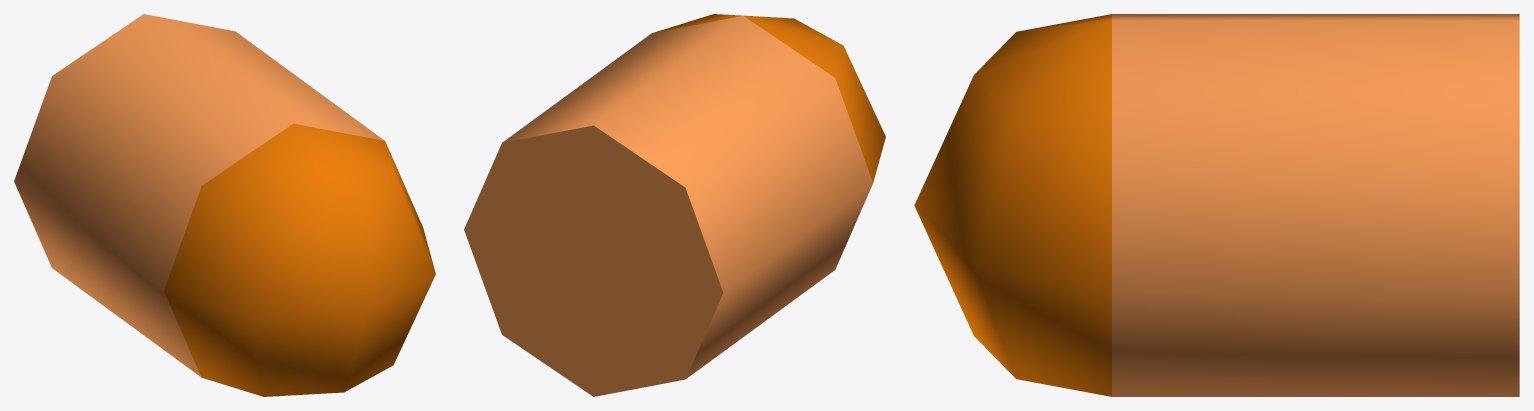
File: Bullet.fbx
3 renders of one model, left to right at view 1: azimuth 30°, elevation 25°; view 2: azimuth 150°, elevation 25°; view 3: azimuth 270°, elevation 25°, orthographic. The views are drawn at different scales.
Parts seen in each view (by area): view 1: Bullet; view 2: Bullet; view 3: Bullet.
Part boxes in pixels (x1,y1,x2,y2): Bullet: (14,14,435,396); Bullet: (464,14,885,396); Bullet: (914,14,1519,396).
Bounding box in the file's own units: 200 × 200 × 297.
